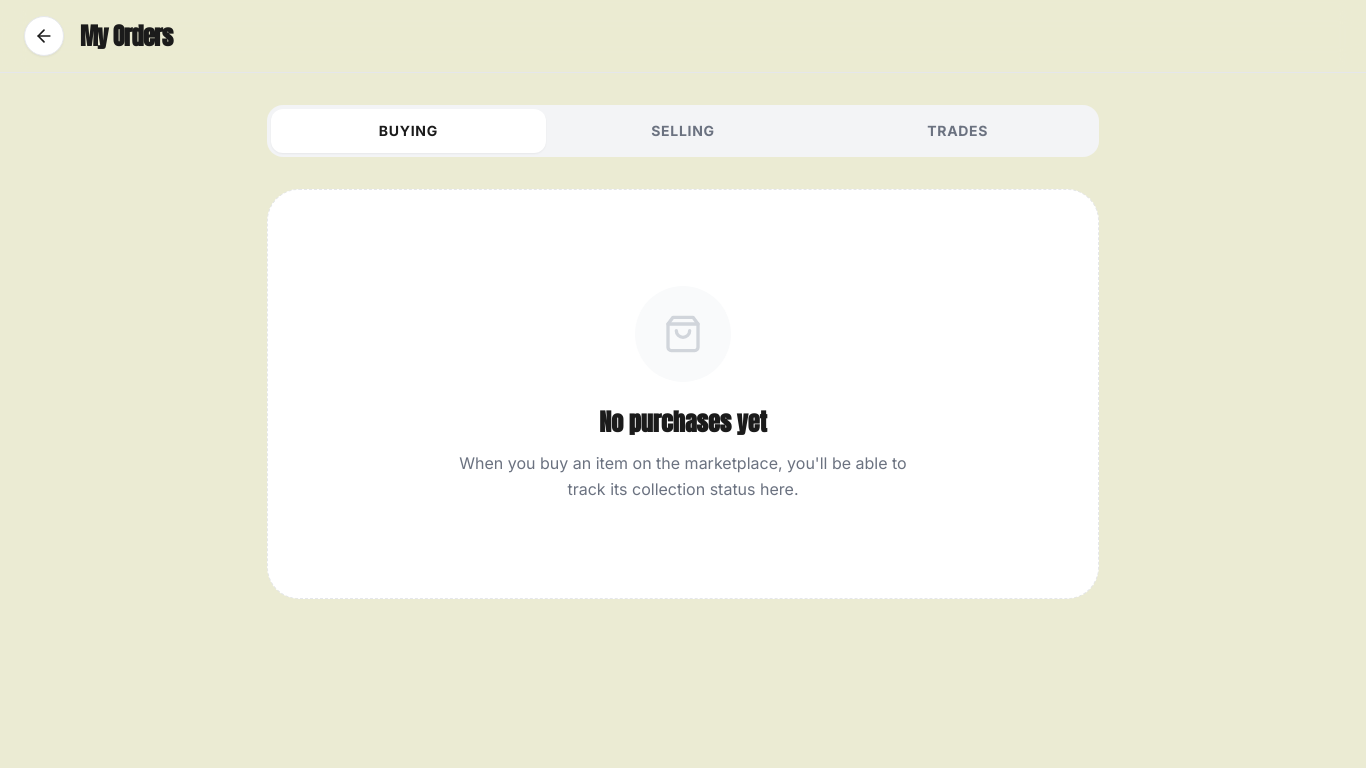
Scenario: MyOrders › Selling orders tab › shows empty state when no selling orders
The width and height of the screenshot is (1366, 768).
Click the tab "Selling" at [683, 131], box [546,109,820,153]
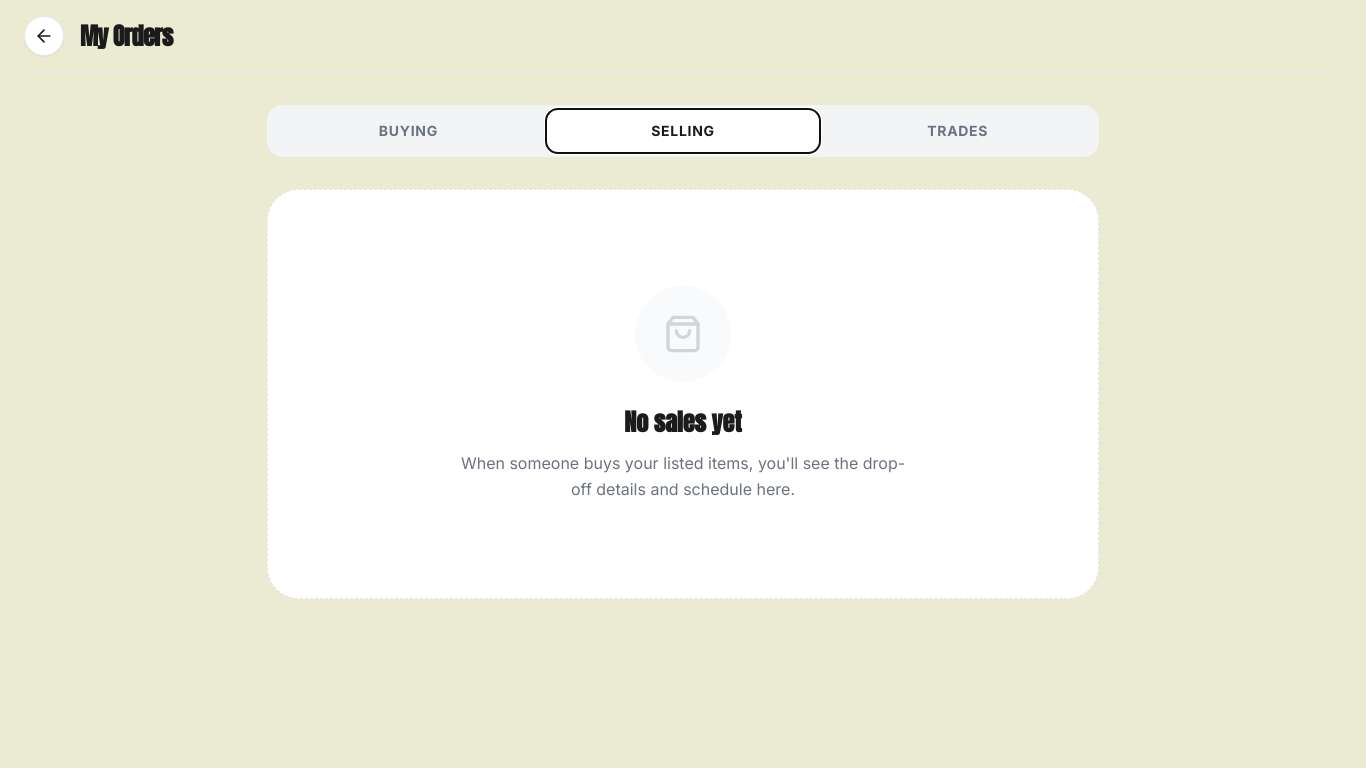
Now the heading "No sales yet" is shown, box [624,406,742,438]
